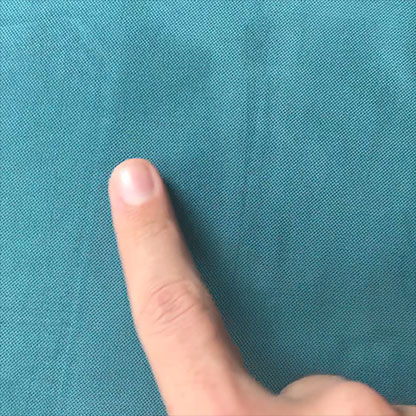fingertip: (96, 152, 176, 217)
